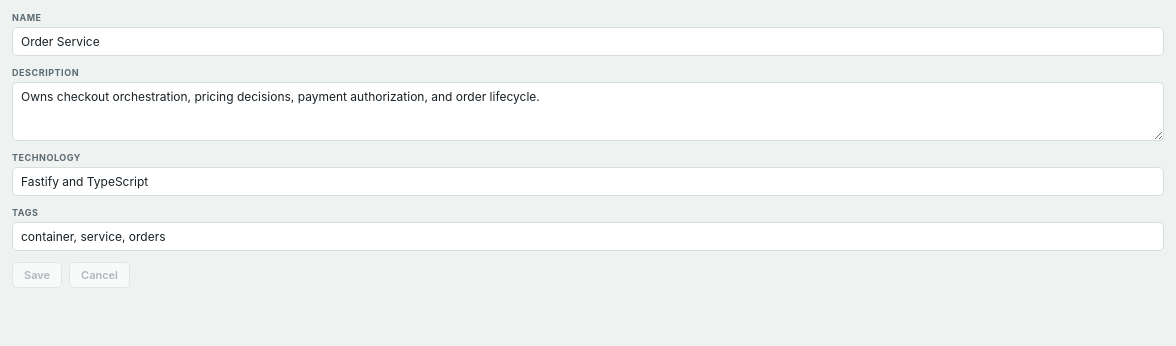
Scenario: ElementInspectorForm › clears a previous error as soon as the user edits again
Step 1. Replace the text in the field labelled "Name" with "x" → [588, 42], box [12,27,1164,56]
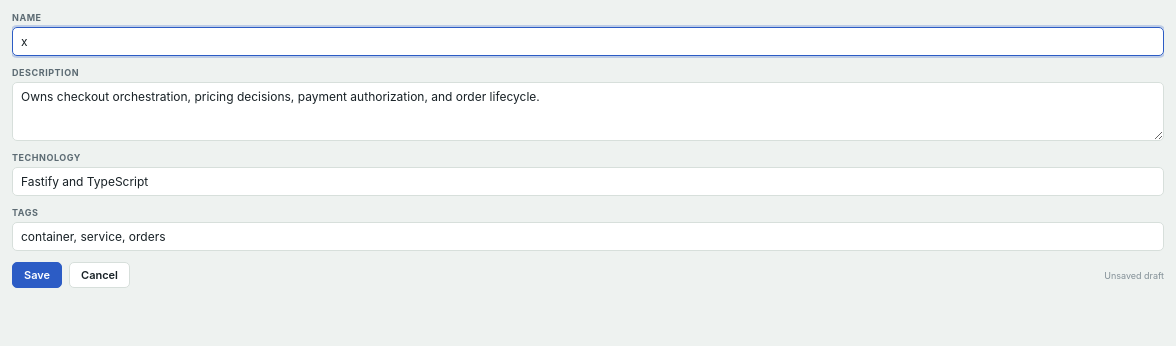
Step 2. Click the button "Save" → [37, 275], box [12,262,62,288]
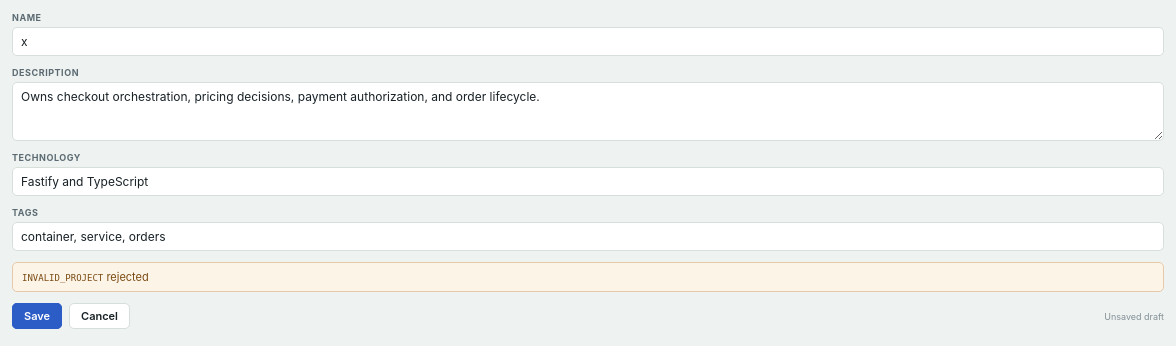
expect the message "INVALID_PROJECT rejected" is shown: met, box [12,262,1164,292]
Step 3. Type "y" into the field labelled "Name" → [588, 42], box [12,27,1164,56]
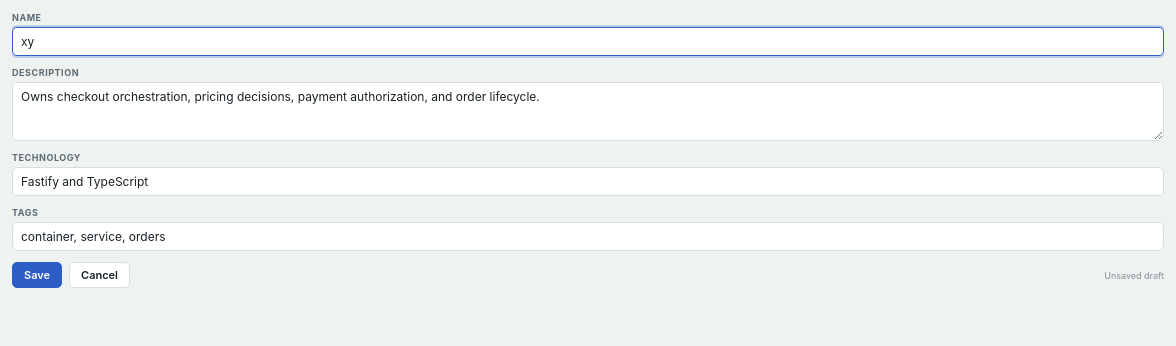
expect the message "INVALID_PROJECT rejected" is gone: met
